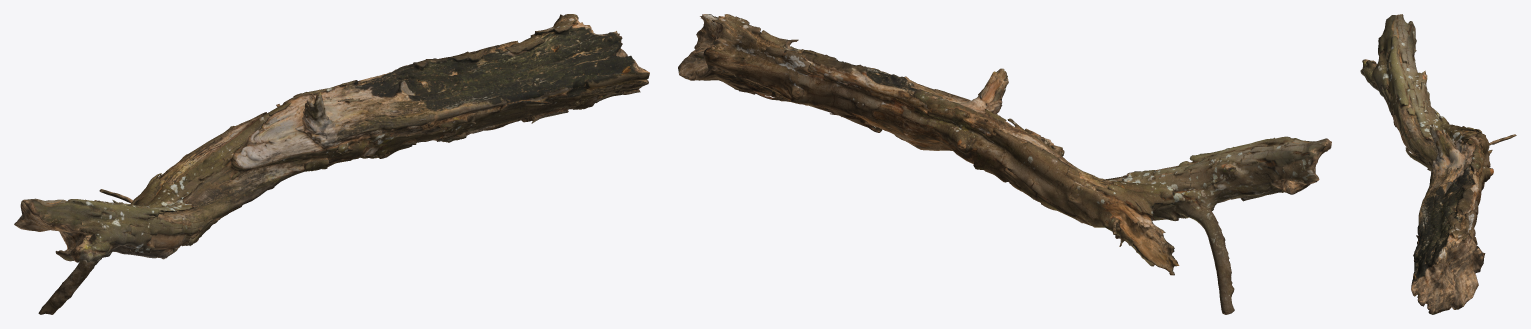
File: log_dead_big.glb
3 views of the same model, side by side, from view 1: azimuth 30°, elevation 25°; view 2: azimuth 150°, elevation 25°; view 3: azimuth 270°, elevation 25° (orthographic). The views are drawn at different scales.
Visible parts, largest first — view 1: log_dead_big; view 2: log_dead_big; view 3: log_dead_big.
Boxes of the visible parts, left/top/right/bottom form: log_dead_big: left=14, top=14, right=649, bottom=314; log_dead_big: left=678, top=14, right=1331, bottom=314; log_dead_big: left=1360, top=14, right=1516, bottom=314.
Size of the model in its own units: 20.26 by 5.28 by 5.28.
1 material, 1 textured.
